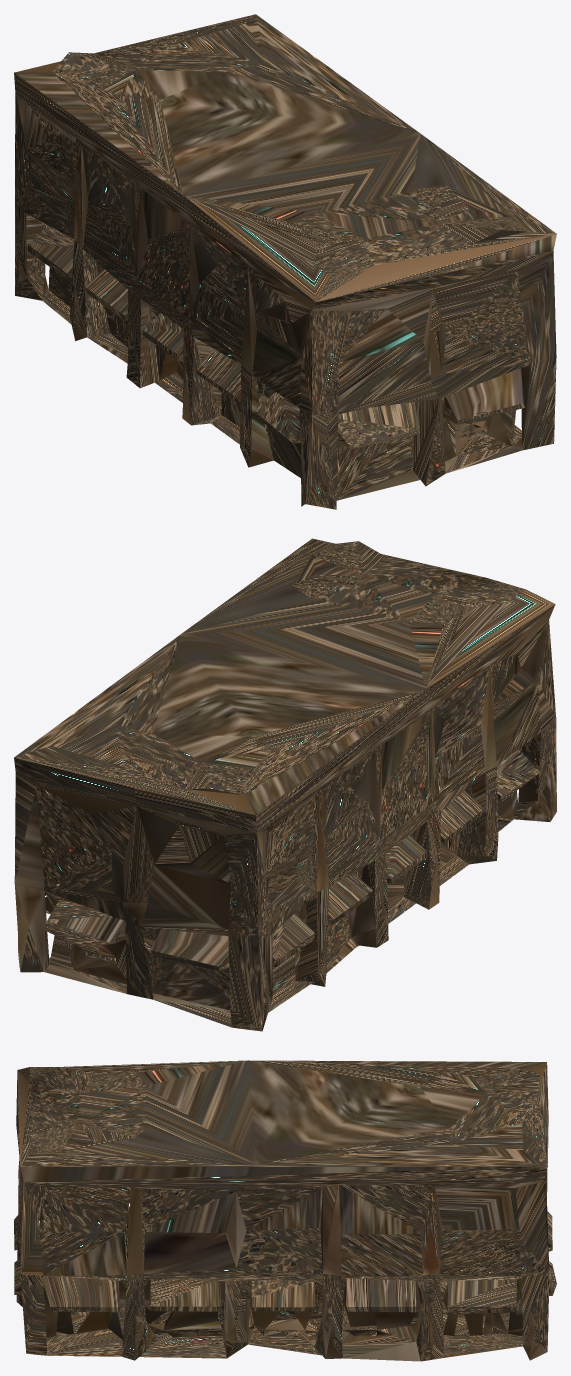
The model's file is s01_far.glb.
3 views of the same model, one above another, from view 1: azimuth 30°, elevation 25°; view 2: azimuth 150°, elevation 25°; view 3: azimuth 270°, elevation 25° (orthographic). The views are drawn at different scales.
Parts seen in each view (by area): view 1: s01_far; view 2: s01_far; view 3: s01_far.
Boxes of the visible parts, x1,y1,x2,y2 form: s01_far: [14, 14, 556, 509]; s01_far: [14, 538, 556, 1031]; s01_far: [14, 1060, 556, 1361].
Size of the model in its own units: 13.56 by 12 by 28.64.
Materials: 1 (1 with a texture image).
